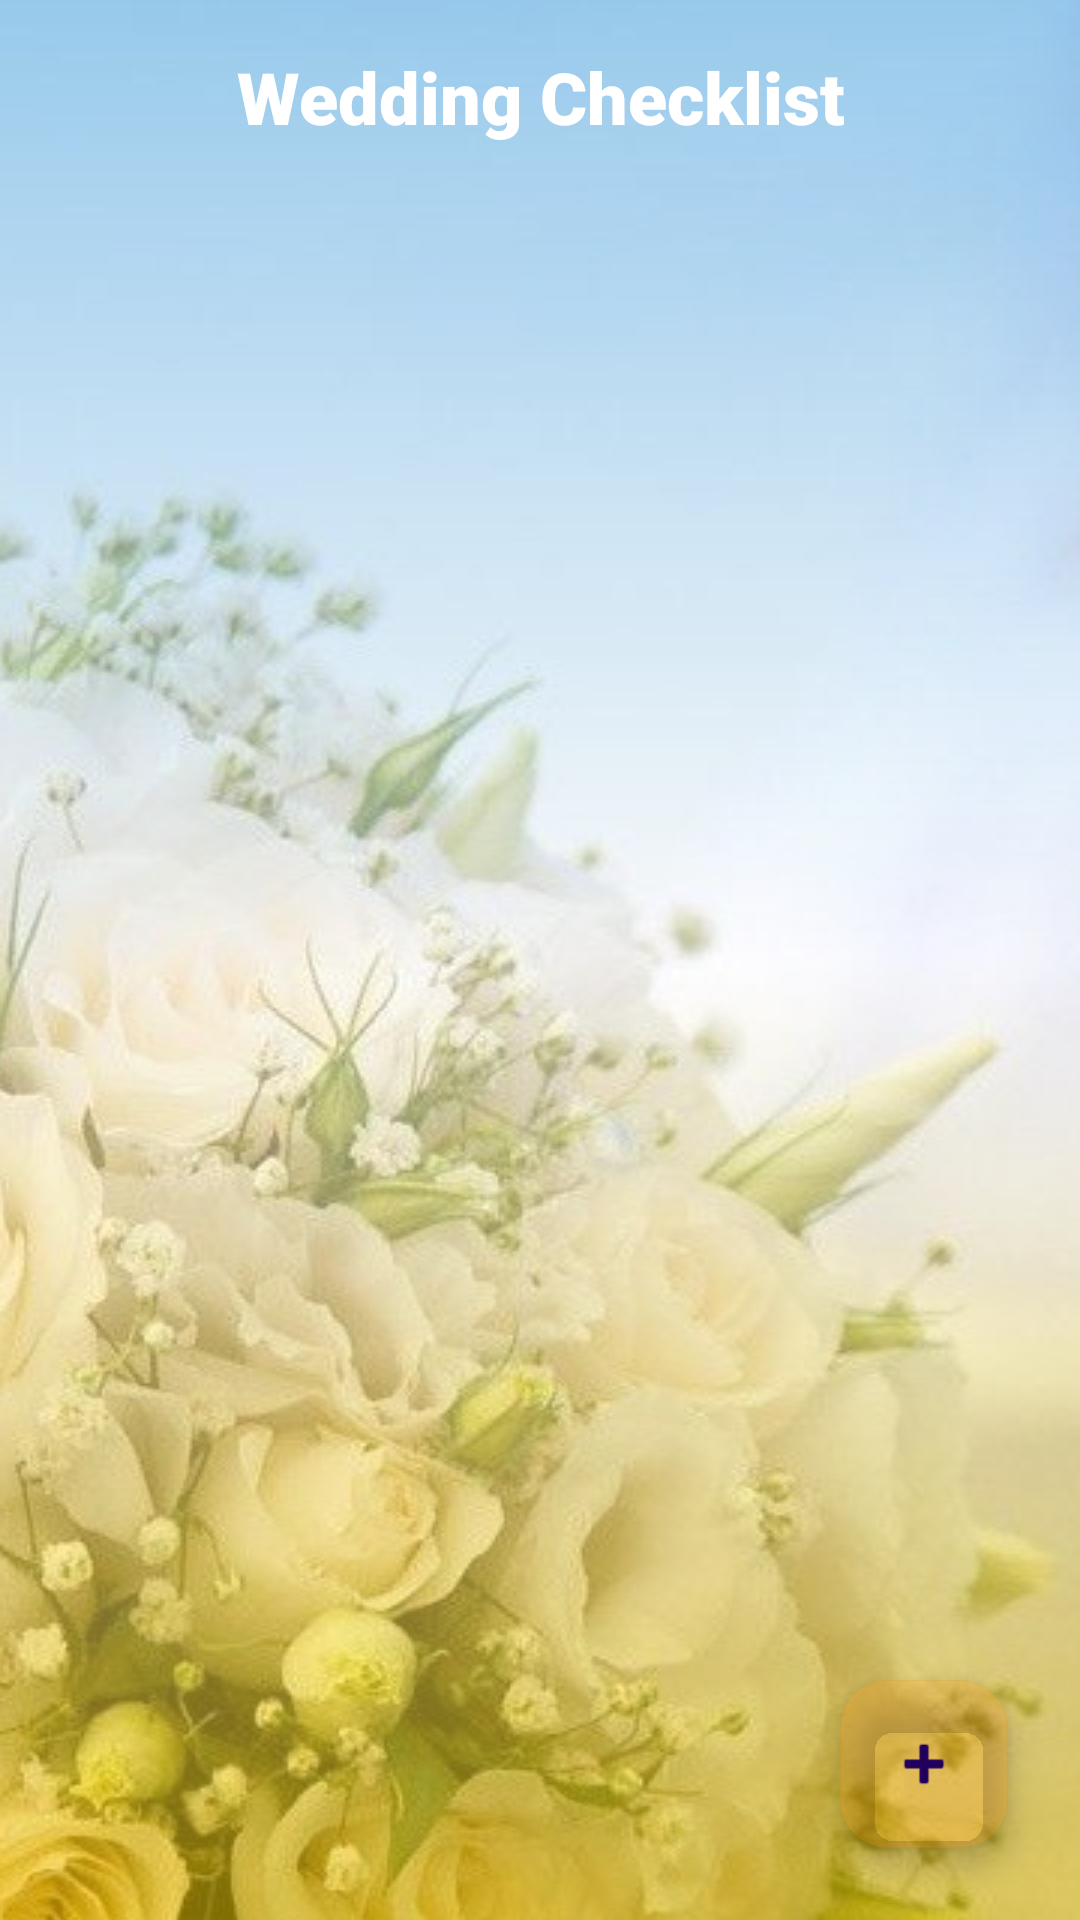

Where to tap for icons on this 1080x1920 app screen, as point (x, y):
Add Task: point (924, 1764)
